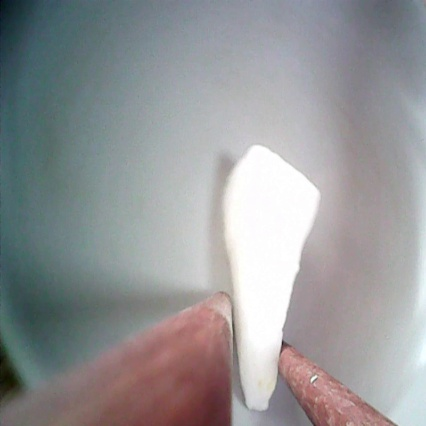white_chinese-yam: (221, 143, 321, 411)
